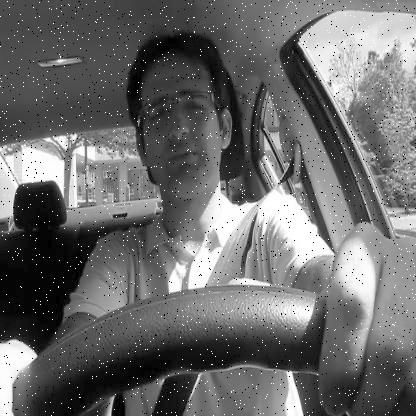seatbelt: (116, 16, 304, 286)
